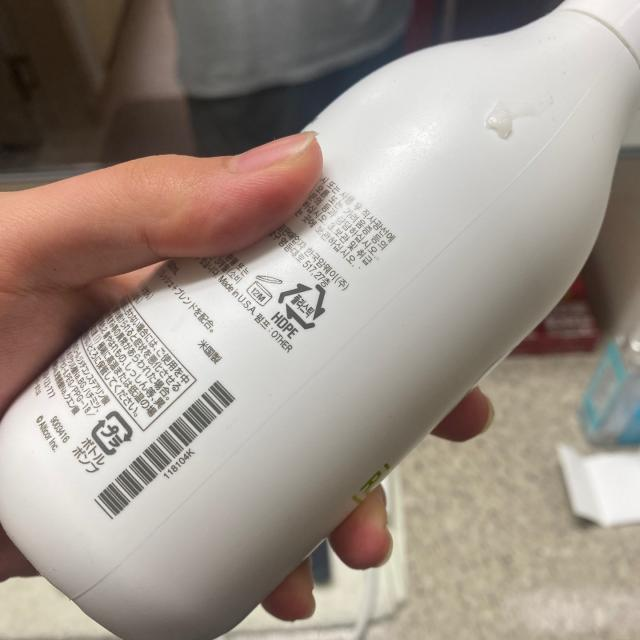Plastic: (276, 280, 327, 330)
